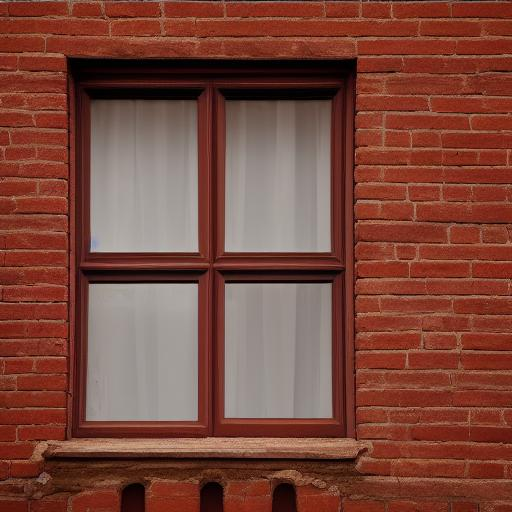Window: (46, 53, 371, 467)
